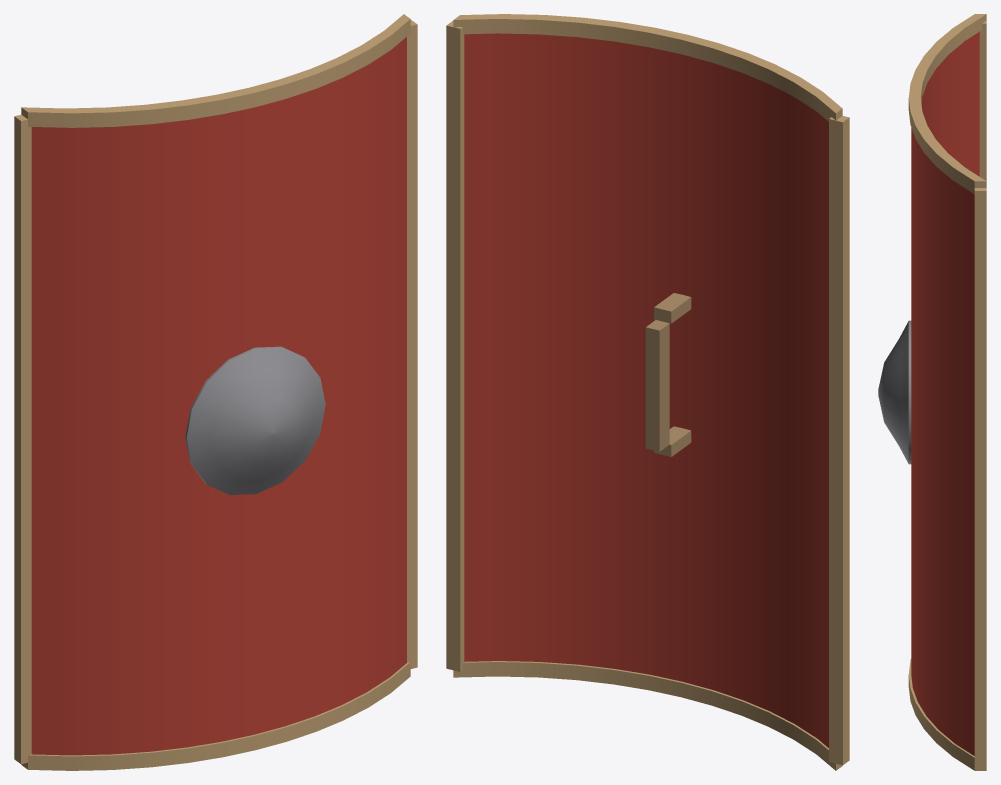
File: scutum.glb
The picture shows the model from 3 angles, left to right: view 1: azimuth 30°, elevation 25°; view 2: azimuth 150°, elevation 25°; view 3: azimuth 270°, elevation 25°; orthographic projection. The views are drawn at different scales.
Parts seen in each view (by area): view 1: OUT; view 2: OUT; view 3: OUT.
Boxes of the visible parts, left/top/right/bottom form: OUT: left=14, top=14, right=417, bottom=770; OUT: left=446, top=14, right=849, bottom=770; OUT: left=878, top=14, right=986, bottom=770.
Size of the model in its own units: 0.684 by 1.08 by 0.181.
